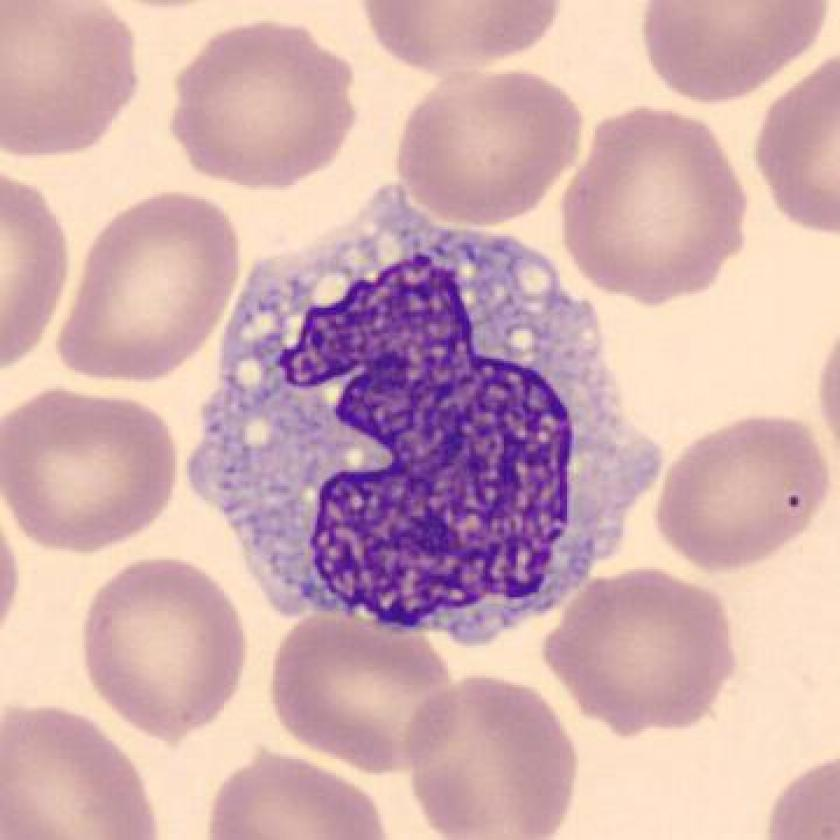monocyte: (179, 172, 683, 663)
